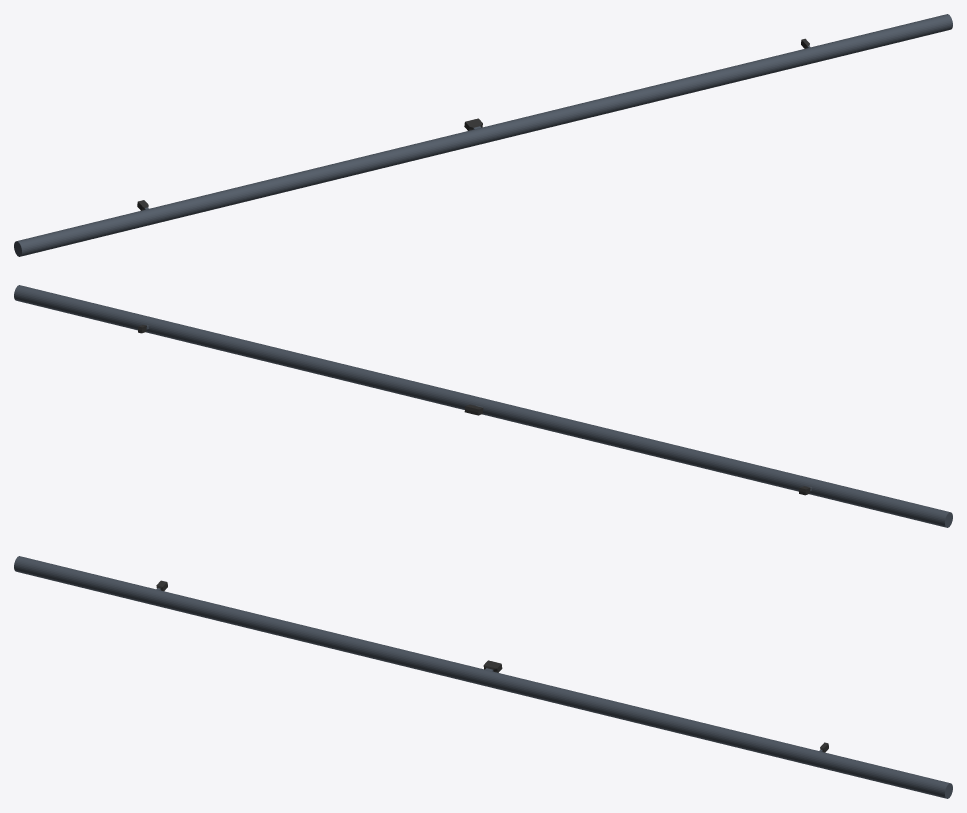
The model's file is handrail.fbx.
3 views of the same model, one above another, from view 1: azimuth 30°, elevation 25°; view 2: azimuth 150°, elevation 25°; view 3: azimuth 330°, elevation 25° (orthographic).
Visible parts, largest first — view 1: Cylinder; view 2: Cylinder; view 3: Cylinder.
Part boxes in pixels (x1,y1,x2,y2): Cylinder: (14, 14, 952, 256); Cylinder: (14, 285, 952, 527); Cylinder: (14, 556, 952, 798).
Size of the model in its own units: 2000 by 30 by 60.1.
